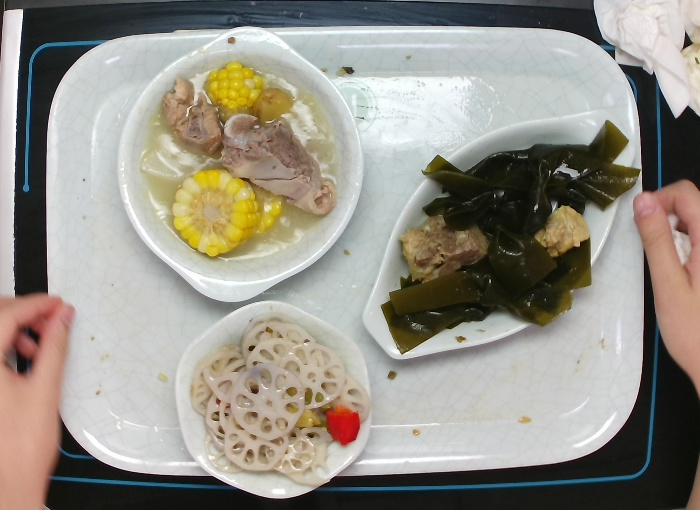JYsf-Shuang_Er_Wan: (109, 23, 370, 307)
JYsf-Yu_Pan: (358, 107, 643, 364)
WCQzf-Hua_Duo_Wan: (168, 299, 386, 504)
